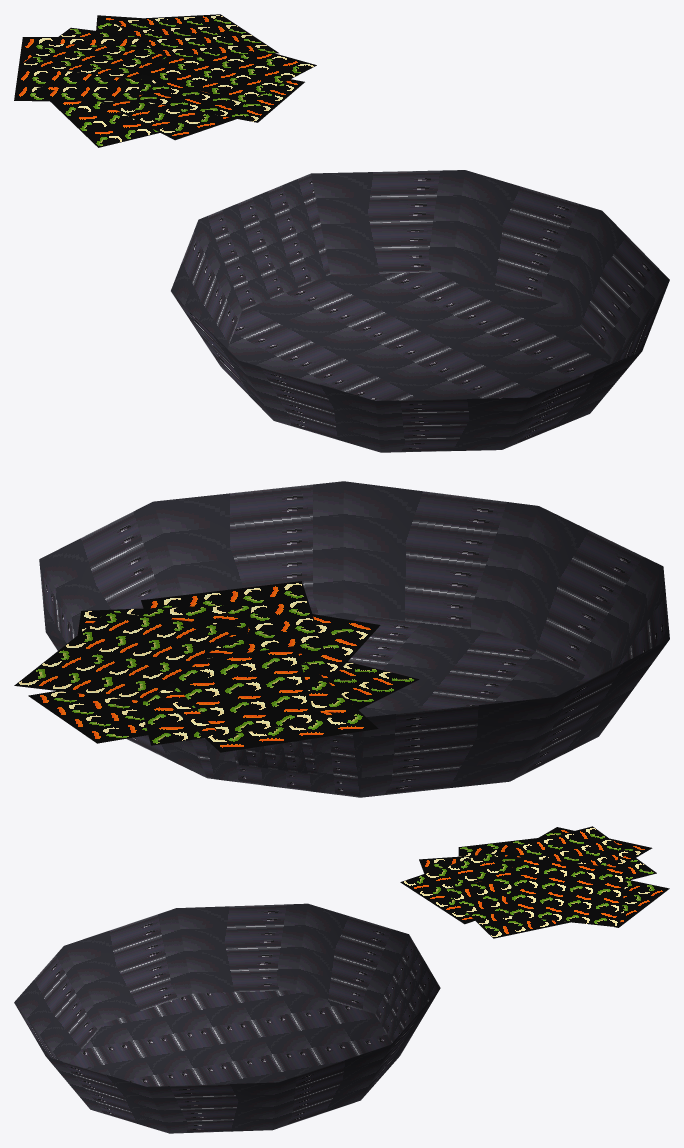
The model's file is 1131item602.gltf.
The picture shows the model from 3 angles, top to bottom: view 1: azimuth 30°, elevation 25°; view 2: azimuth 150°, elevation 25°; view 3: azimuth 270°, elevation 25°; orthographic projection. The views are drawn at different scales.
Parts seen in each view (by area): view 1: 1131item602; view 2: 1131item602; view 3: 1131item602.
Boxes of the visible parts, left/top/right/bottom form: 1131item602: left=14, top=14, right=669, bottom=452; 1131item602: left=14, top=481, right=669, bottom=797; 1131item602: left=14, top=826, right=669, bottom=1133.
Size of the model in its own units: 0.8199 by 0.395 by 1.29.
Materials: 2 (2 with a texture image).
